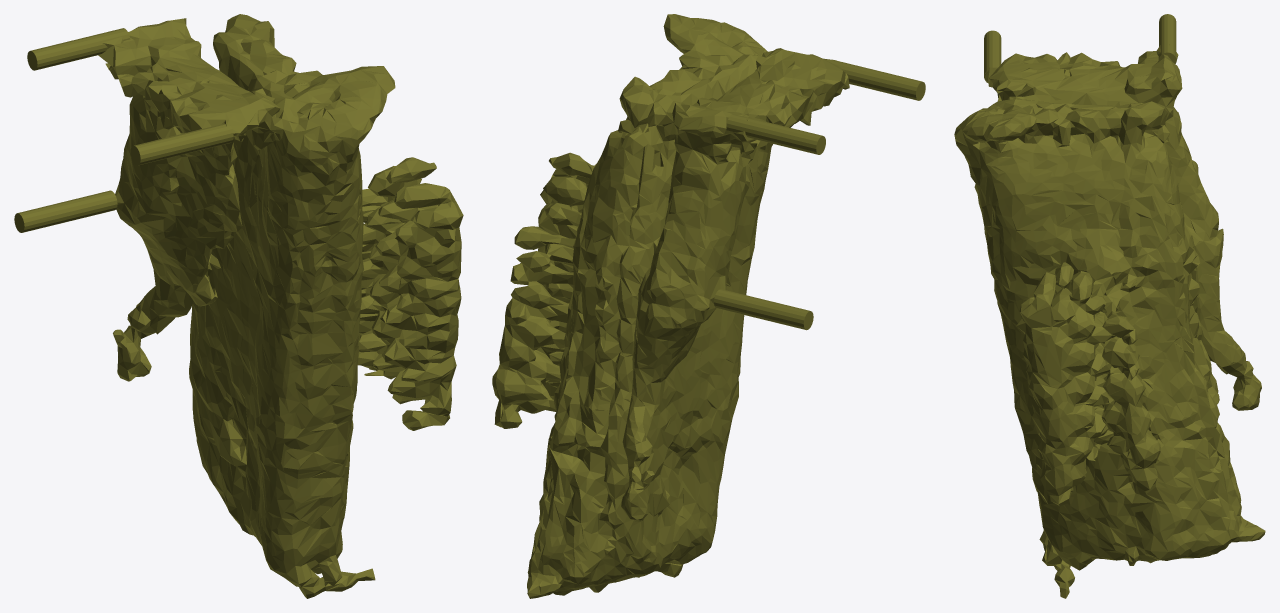
The model's file is improved.glb.
The picture shows the model from 3 angles, left to right: view 1: azimuth 30°, elevation 25°; view 2: azimuth 150°, elevation 25°; view 3: azimuth 270°, elevation 25°; orthographic projection. The views are drawn at different scales.
Parts seen in each view (by area): view 1: world; view 2: world; view 3: world.
Part boxes in pixels (box(x1,y1,x2,y2)): world: box(14, 14, 463, 598); world: box(492, 14, 925, 598); world: box(954, 14, 1265, 598).
Bounding box in the file's own units: 0.45 × 0.6666 × 0.4.
